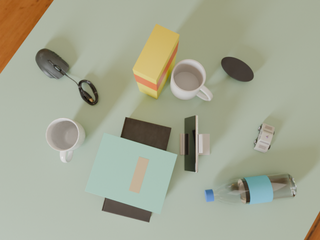book: (85, 133, 177, 214), (102, 117, 171, 222)
bottle: (205, 173, 297, 205)
box: (133, 24, 179, 99)
cup: (170, 59, 213, 101), (46, 118, 85, 163)
mouse: (35, 49, 69, 79), (221, 57, 254, 82)
phone: (185, 115, 198, 173)
toy_car: (254, 123, 274, 153)
